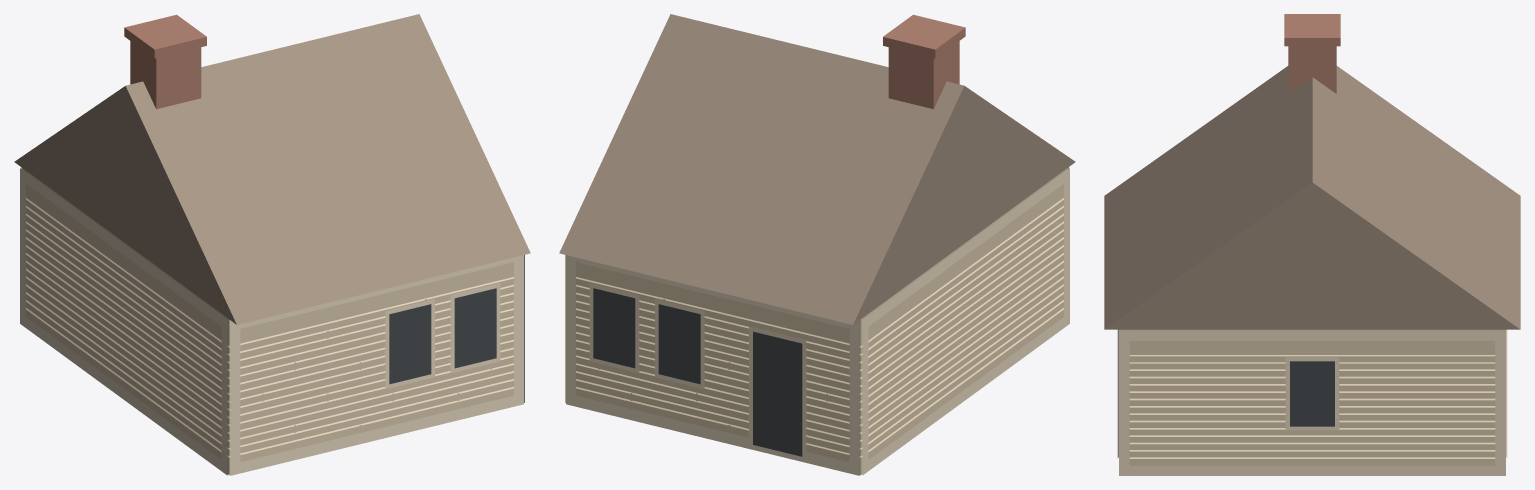
Rendered from recon_1835_north_d3_024__inferred_1835.glb.
The picture shows the model from 3 angles, left to right: view 1: azimuth 30°, elevation 25°; view 2: azimuth 150°, elevation 25°; view 3: azimuth 270°, elevation 25°; orthographic projection. The views are drawn at different scales.
Visible parts, largest first — view 1: recon_1835_north_d3_024__inferred_1835; view 2: recon_1835_north_d3_024__inferred_1835; view 3: recon_1835_north_d3_024__inferred_1835.
Boxes of the visible parts, bbox=[...] form: recon_1835_north_d3_024__inferred_1835: bbox=[14, 14, 530, 475]; recon_1835_north_d3_024__inferred_1835: bbox=[559, 14, 1075, 475]; recon_1835_north_d3_024__inferred_1835: bbox=[1104, 14, 1520, 475].
Bounding box in the file's own units: 5.57 × 6.37 × 7.21.
